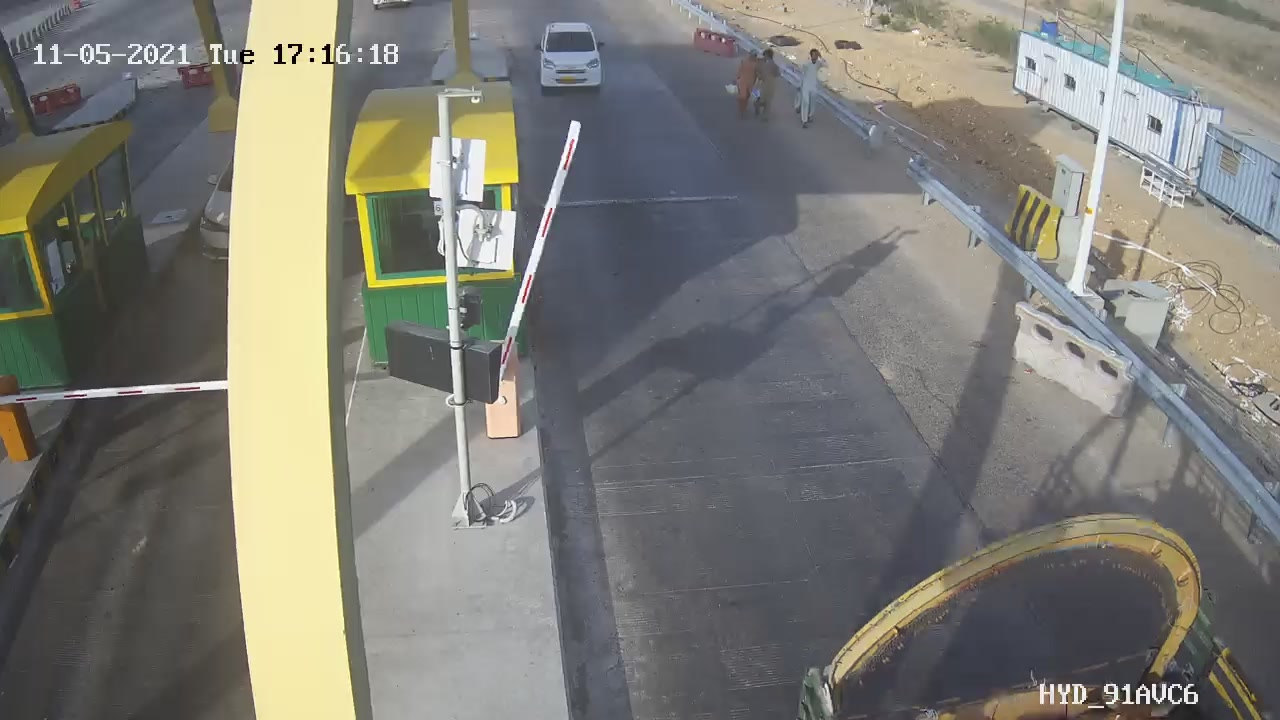F1: (524, 12, 617, 105)
